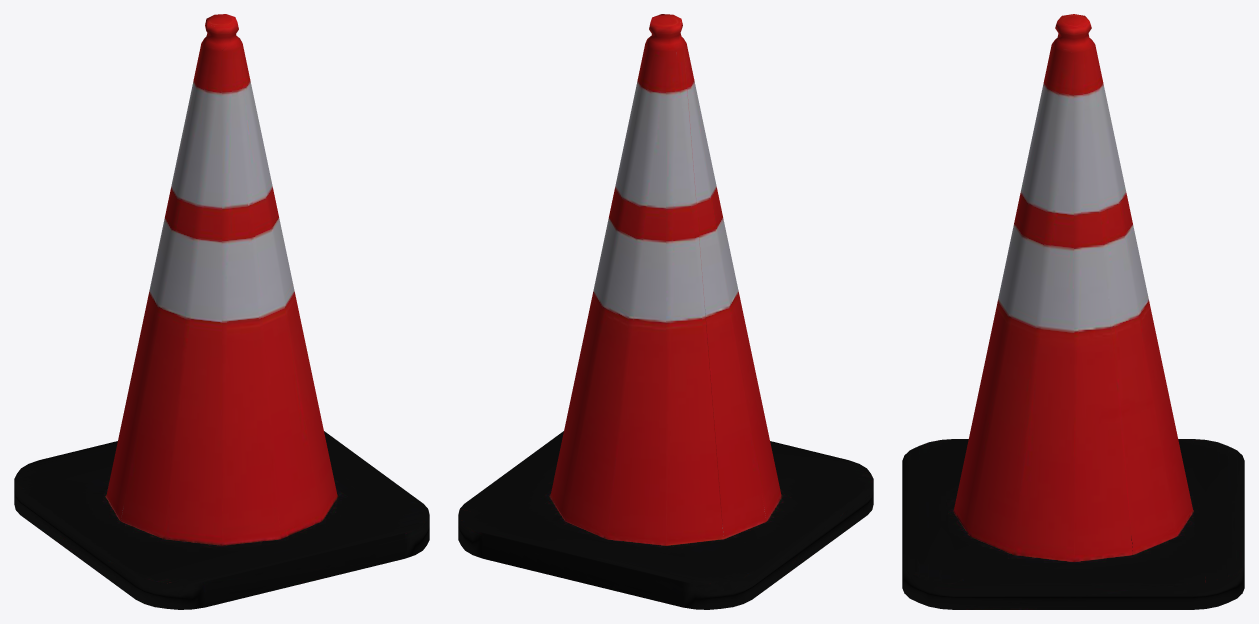
File: Safety Cone.fbx
3 views of the same model, side by side, from view 1: azimuth 30°, elevation 25°; view 2: azimuth 150°, elevation 25°; view 3: azimuth 270°, elevation 25° (orthographic). The views are drawn at different scales.
Visible parts, largest first — view 1: tripo_node_c2d367c8-ffea-4d0a-8946-a186c22157f8; view 2: tripo_node_c2d367c8-ffea-4d0a-8946-a186c22157f8; view 3: tripo_node_c2d367c8-ffea-4d0a-8946-a186c22157f8.
Part boxes in pixels (x1,y1,x2,y2): tripo_node_c2d367c8-ffea-4d0a-8946-a186c22157f8: [14, 14, 429, 609]; tripo_node_c2d367c8-ffea-4d0a-8946-a186c22157f8: [458, 14, 873, 609]; tripo_node_c2d367c8-ffea-4d0a-8946-a186c22157f8: [902, 14, 1244, 609].
Bounding box in the file's own units: 59.96 × 99.8 × 59.96.
Materials: 1 (1 with a texture image).
